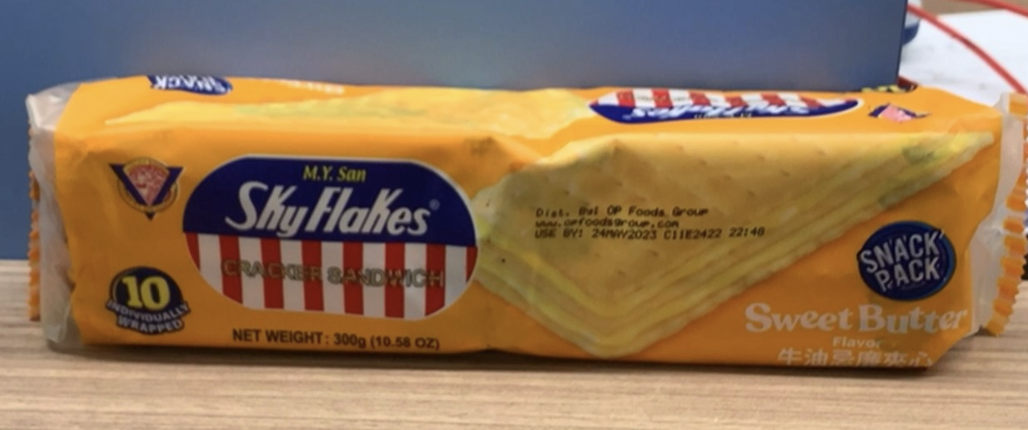crackers_300g-399g: (57, 93, 978, 351)
